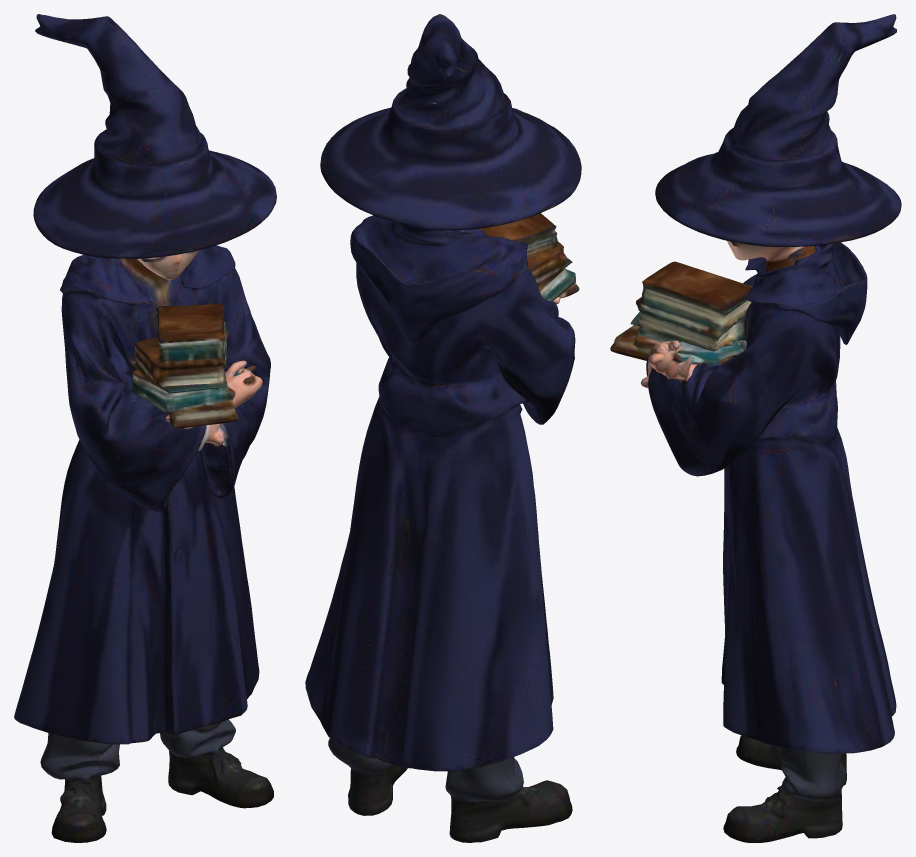
Rendered from token_study_buddy.glb.
3 views of the same model, side by side, from view 1: azimuth 30°, elevation 25°; view 2: azimuth 150°, elevation 25°; view 3: azimuth 270°, elevation 25° (orthographic). The views are drawn at different scales.
Bounding box in the file's own units: 0.2925 × 0.9465 × 0.3237.
1 material, 1 textured.
